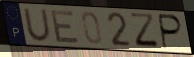0: (81, 10, 103, 46)
2: (106, 11, 133, 48)
E: (50, 9, 81, 44)
P: (158, 13, 185, 51)
U: (22, 8, 54, 43)
Z: (128, 12, 162, 50)
